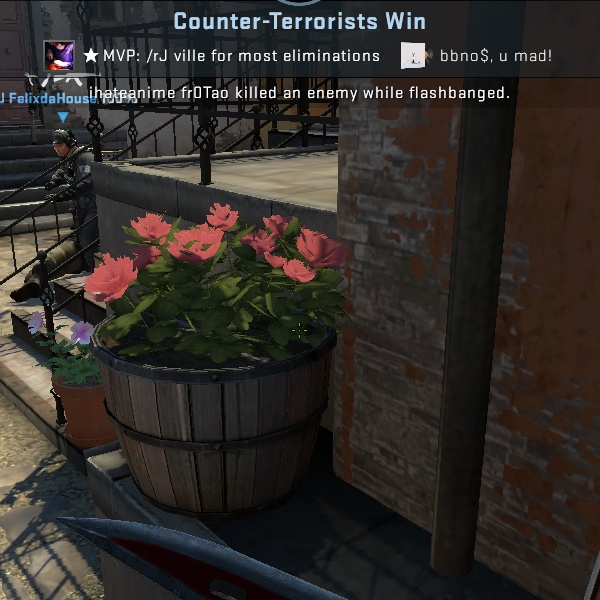ct_head: (37, 122, 91, 172)
